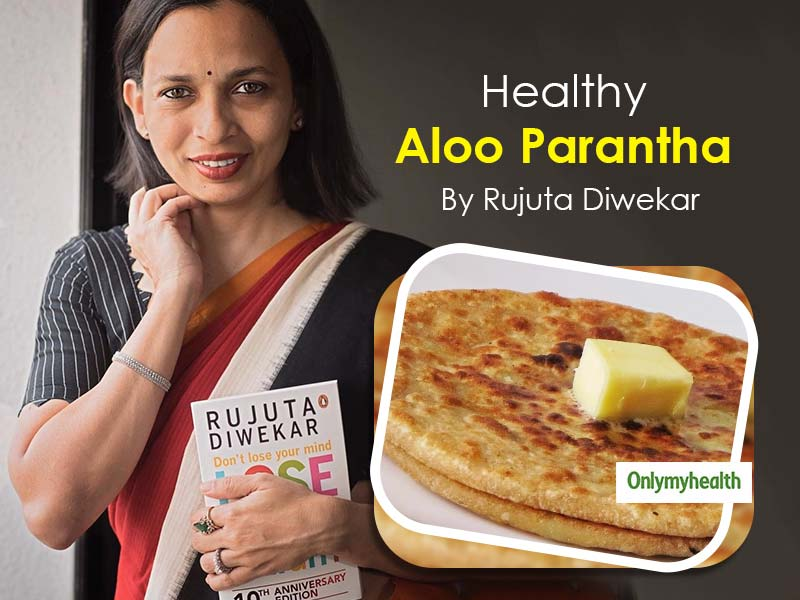aloo_paratha: (389, 289, 735, 553)
